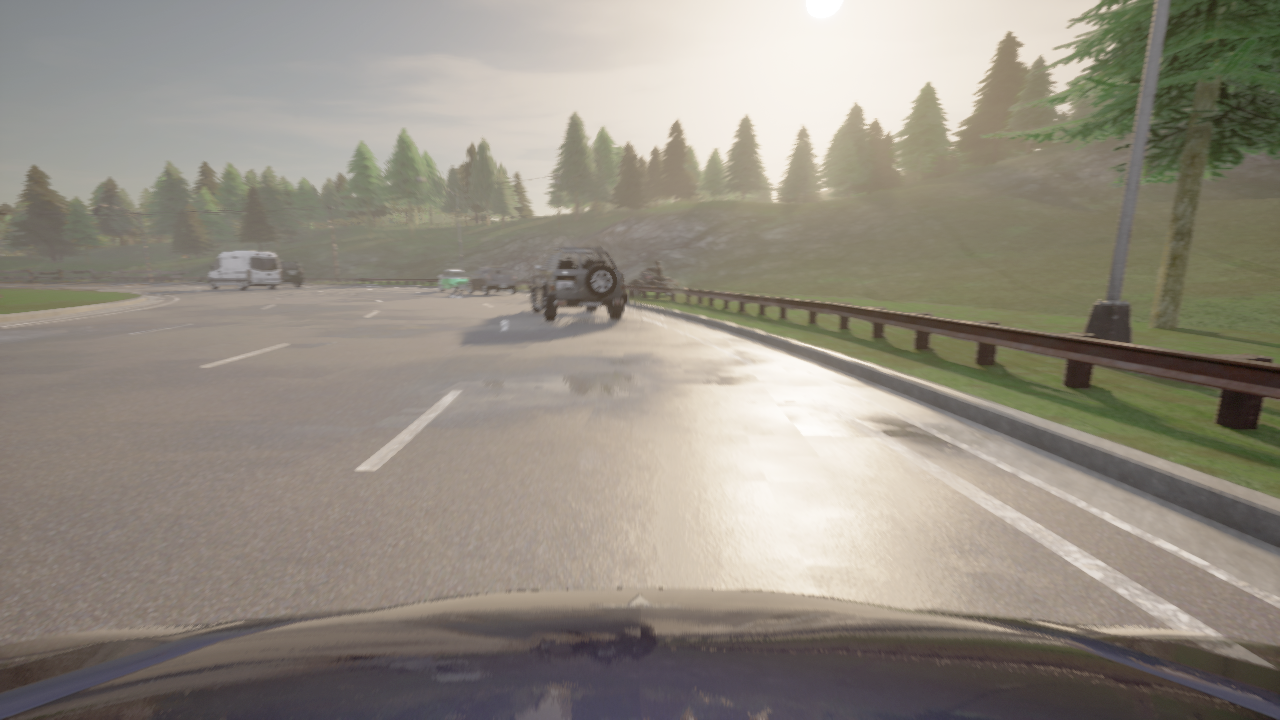cyclist: (0, 588, 1279, 719), (530, 246, 627, 321), (208, 250, 281, 290), (466, 266, 516, 295), (629, 270, 678, 295), (279, 261, 305, 287), (439, 269, 468, 292), (206, 275, 208, 283)
